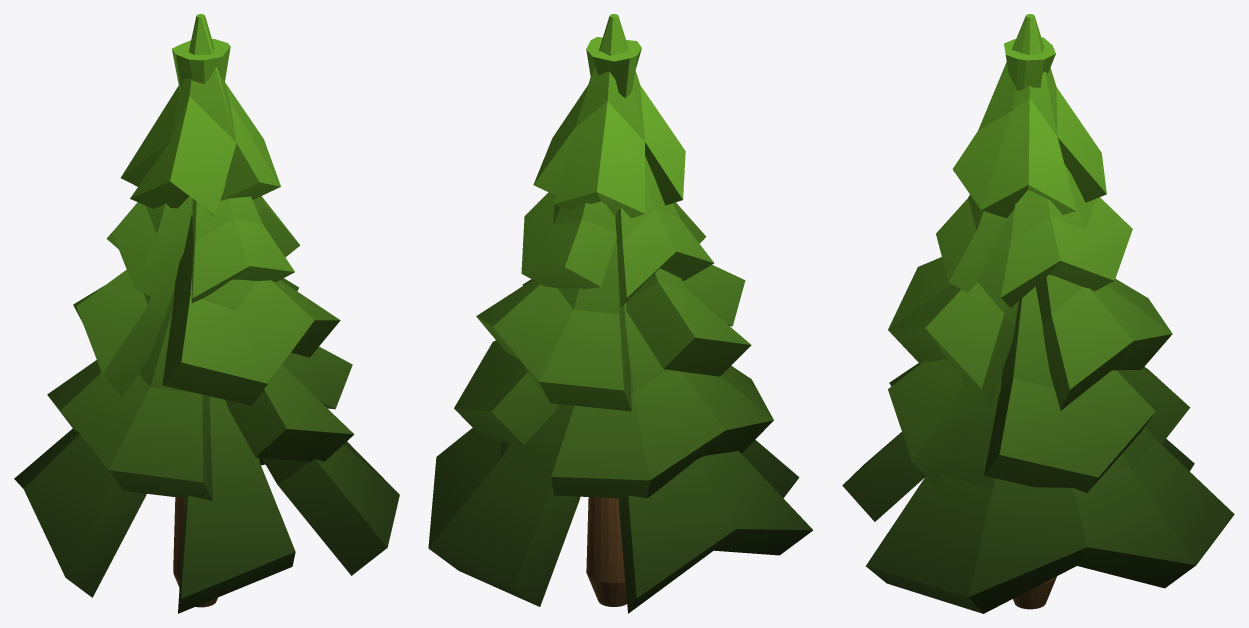
File: PineTree_3.fbx
3 renders of one model, left to right at view 1: azimuth 30°, elevation 25°; view 2: azimuth 150°, elevation 25°; view 3: azimuth 270°, elevation 25°, orthographic.
Parts seen in each view (by area): view 1: PineTree_2; view 2: PineTree_2; view 3: PineTree_2.
Boxes of the visible parts, <box> form: PineTree_2: <box>14,14,399,613</box>; PineTree_2: <box>428,14,813,613</box>; PineTree_2: <box>842,14,1234,613</box>.
Size of the model in its own units: 269 by 447 by 271.
